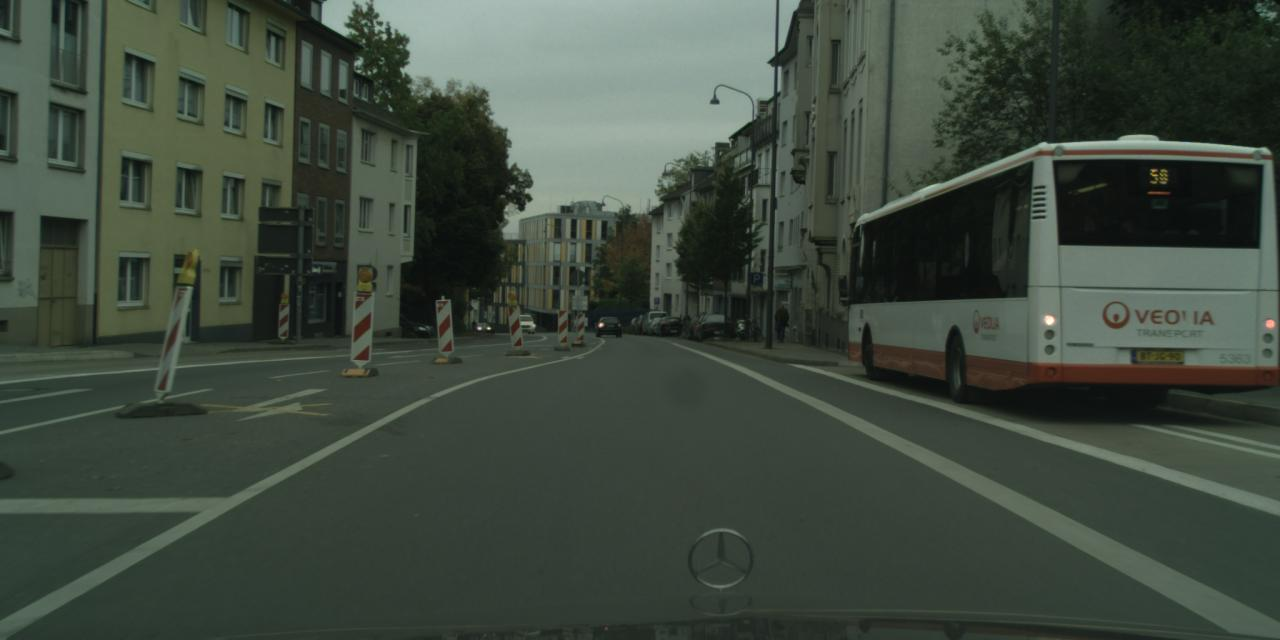ped: (773, 303, 788, 342), (682, 314, 689, 330), (592, 318, 596, 329), (472, 319, 476, 330)
